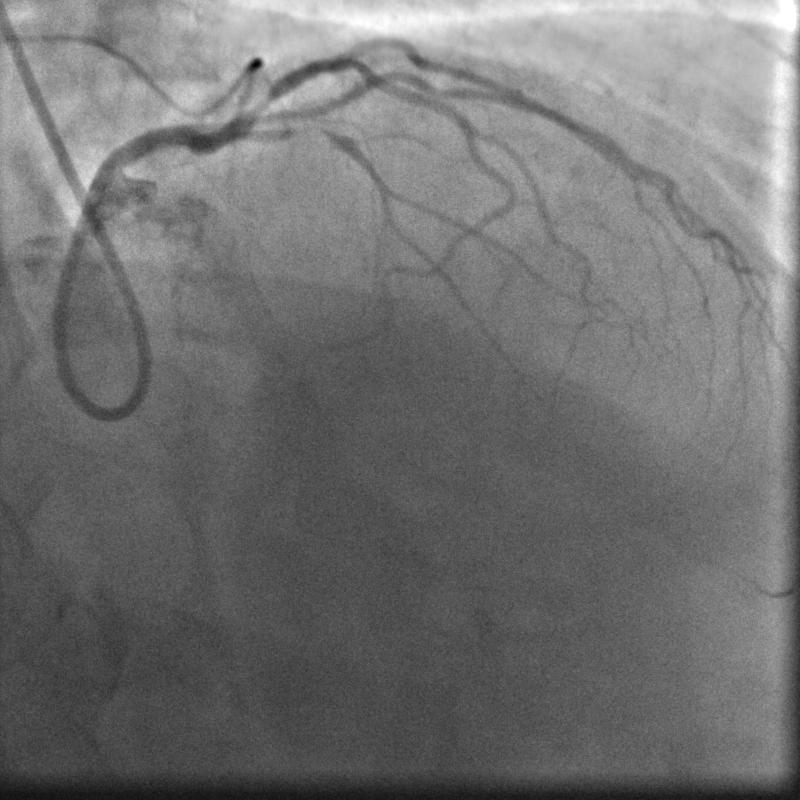Stenosis: (244, 89, 286, 122)
